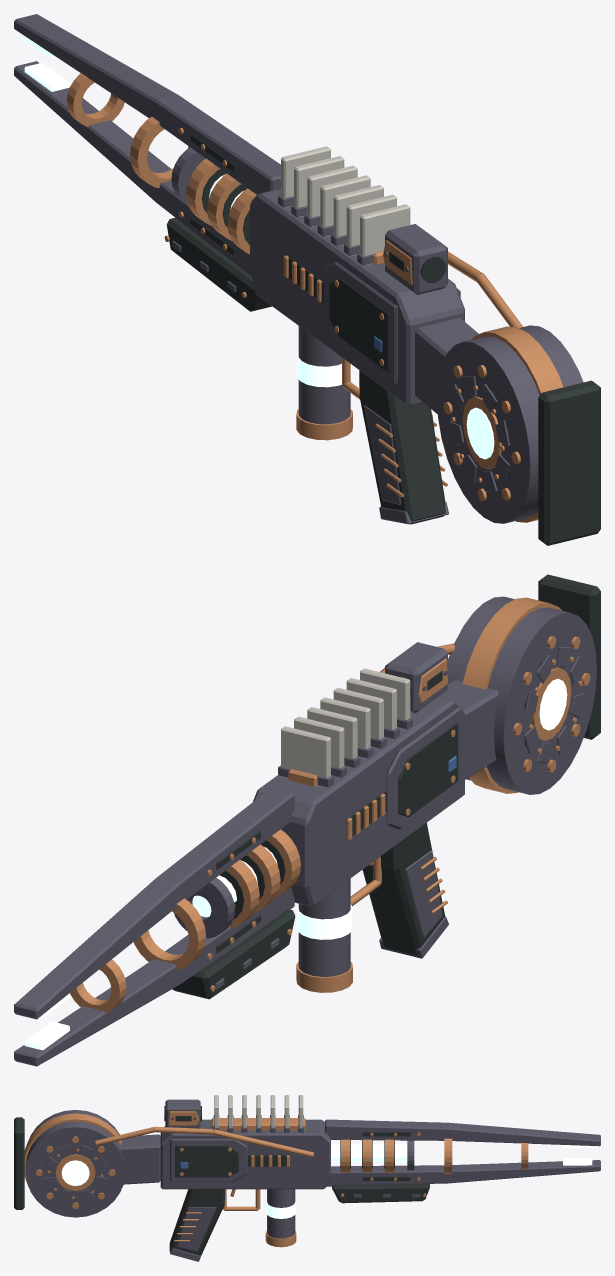
The model's file is laser_2.glb.
The picture shows the model from 3 angles, top to bottom: view 1: azimuth 30°, elevation 25°; view 2: azimuth 150°, elevation 25°; view 3: azimuth 270°, elevation 25°; orthographic projection. The views are drawn at different scales.
Visible parts, largest first — view 1: Weapon_laser_v1; view 2: Weapon_laser_v1; view 3: Weapon_laser_v1.
Boxes of the visible parts, box(x1,y1,x2,y2) form: Weapon_laser_v1: box(14, 14, 600, 545); Weapon_laser_v1: box(14, 574, 600, 1066); Weapon_laser_v1: box(14, 1095, 600, 1261).
Size of the model in its own units: 0.087 by 0.2927 by 1.
